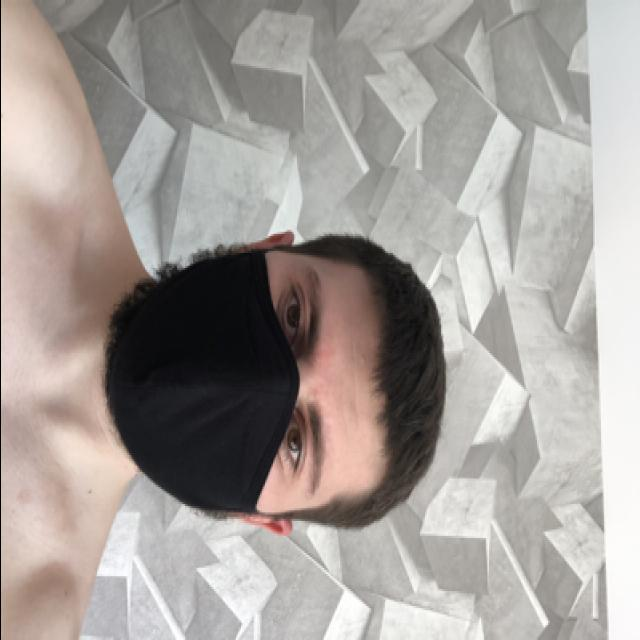with_mask: (104, 253, 346, 517)
